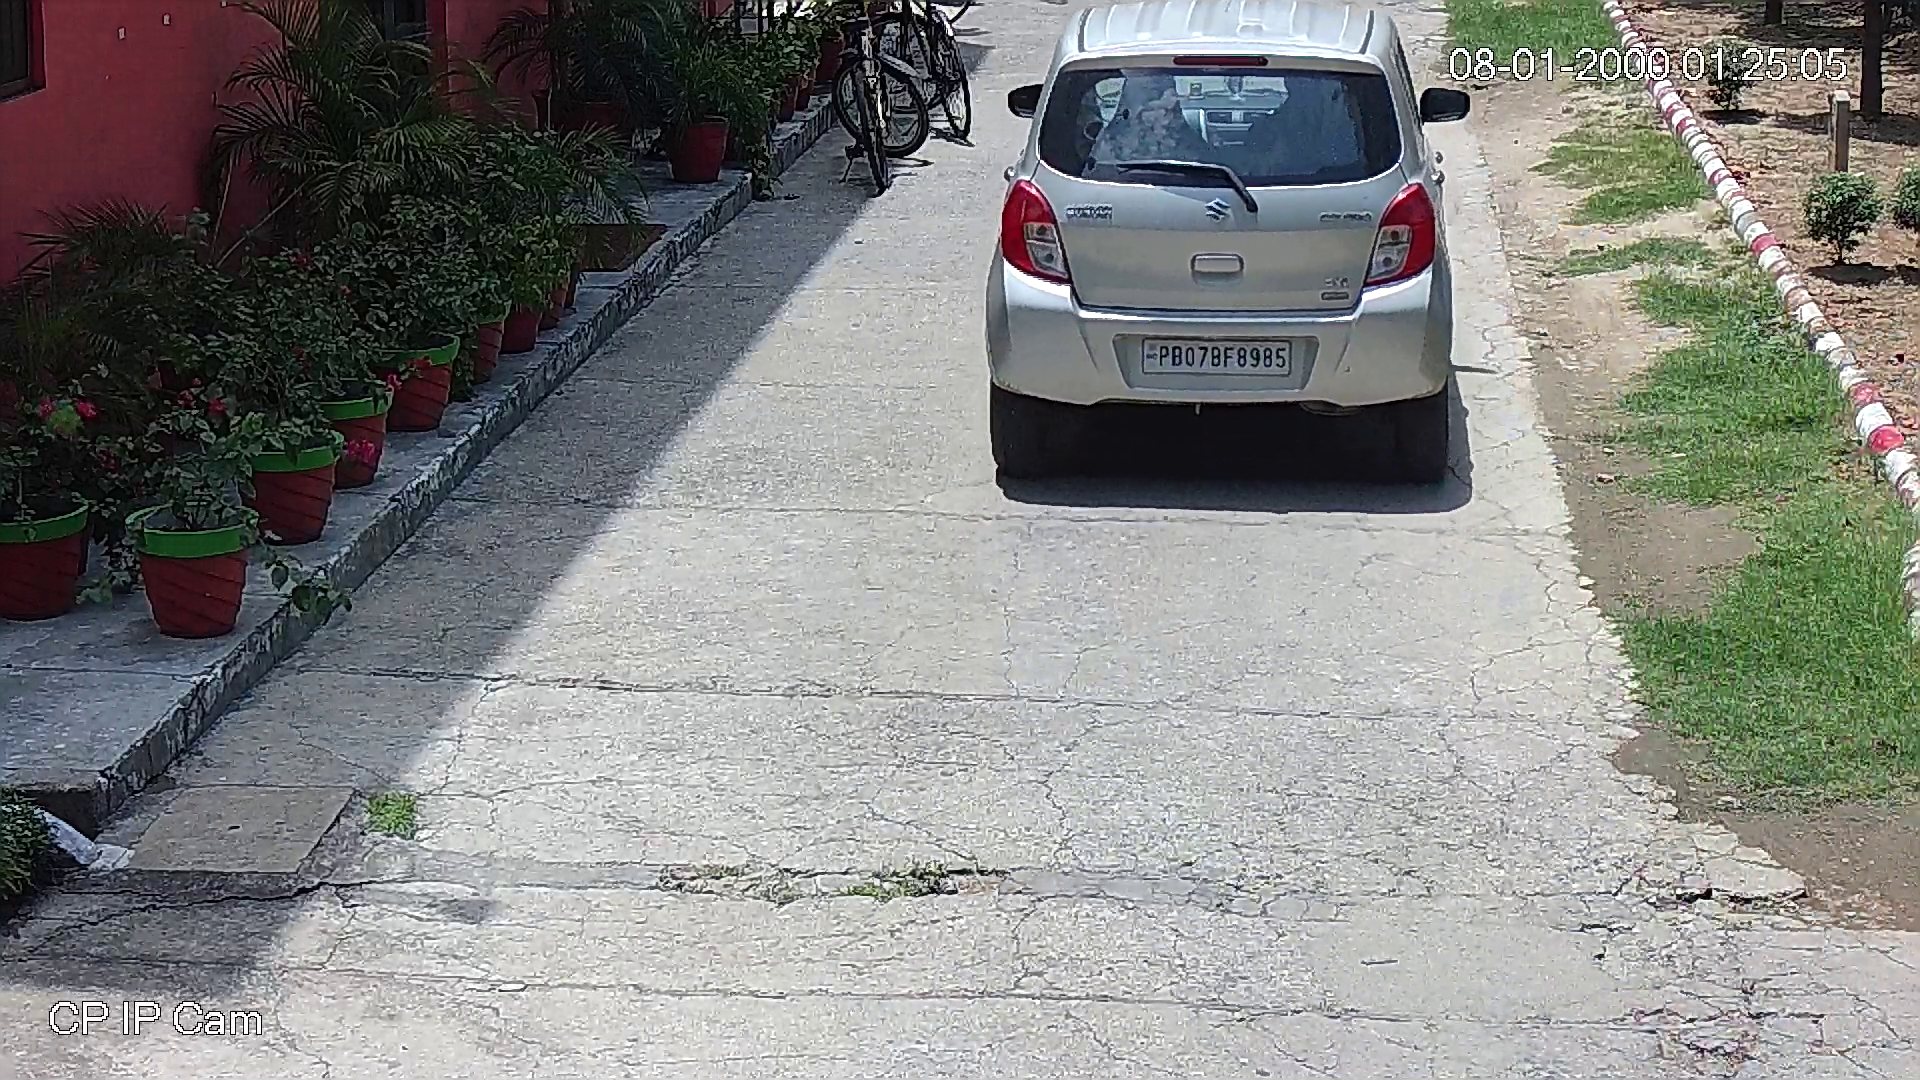plate: (1133, 334, 1297, 382)
